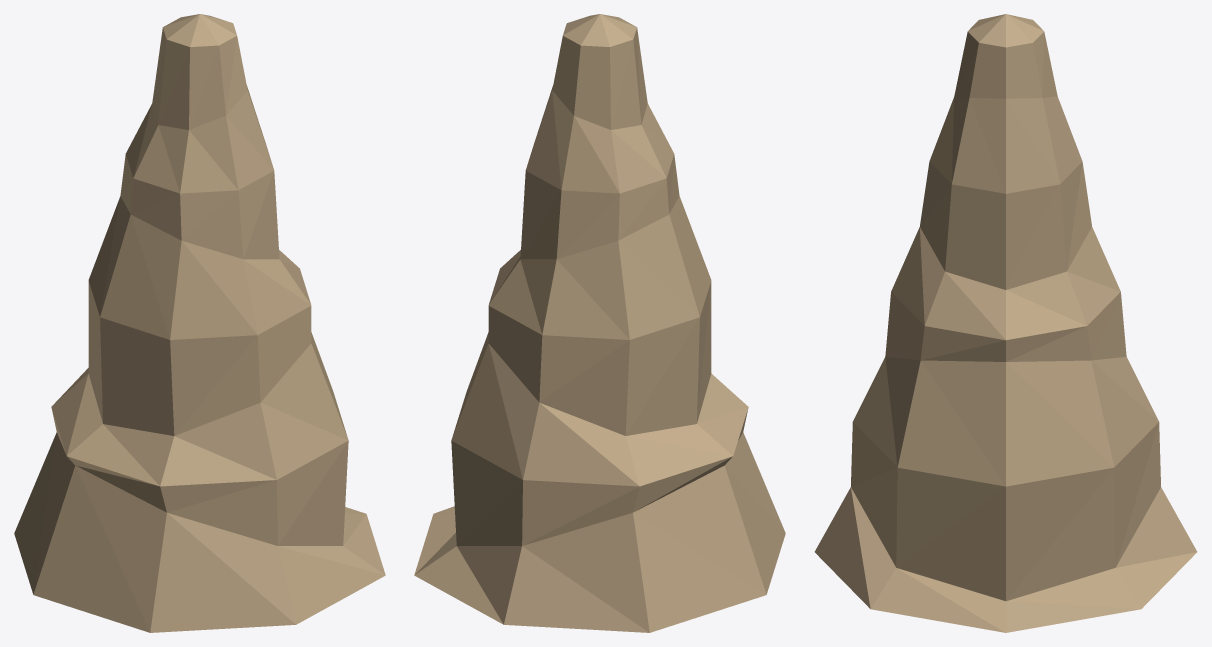
Rendered from Stalagmite1a.fbx.
3 views of the same model, side by side, from view 1: azimuth 30°, elevation 25°; view 2: azimuth 150°, elevation 25°; view 3: azimuth 270°, elevation 25° (orthographic).
Visible parts, largest first — view 1: Circle; view 2: Circle; view 3: Circle.
Boxes of the visible parts, x1=… form: Circle: x1=14, y1=14, x2=385, y2=632; Circle: x1=414, y1=14, x2=785, y2=632; Circle: x1=814, y1=14, x2=1197, y2=632.
Bounding box in the file's own units: 200 × 310 × 200.
